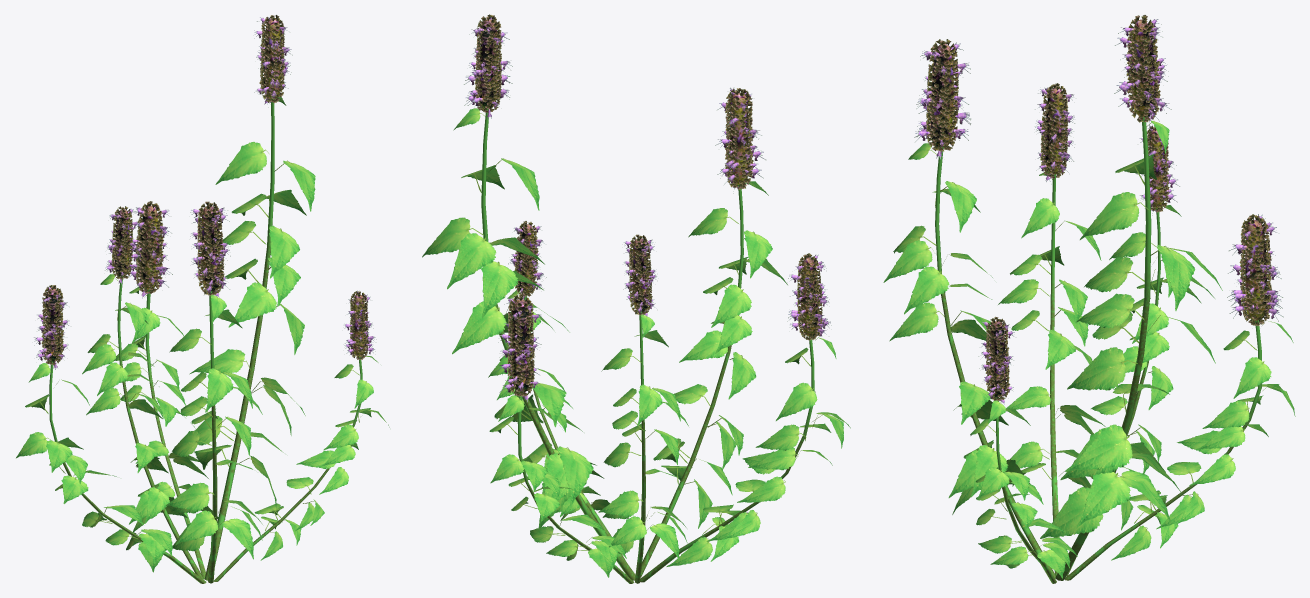
File: AniseHyssop.glb
3 views of the same model, side by side, from view 1: azimuth 30°, elevation 25°; view 2: azimuth 150°, elevation 25°; view 3: azimuth 270°, elevation 25° (orthographic). The views are drawn at different scales.
Parts seen in each view (by area): view 1: Anise Hyssop; view 2: Anise Hyssop; view 3: Anise Hyssop.
Boxes of the visible parts, box(x1,y1,x2,y2) form: Anise Hyssop: box(16, 15, 389, 583); Anise Hyssop: box(422, 14, 850, 583); Anise Hyssop: box(883, 15, 1295, 583).
Bounding box in the file's own units: 0.6486 × 0.9385 × 0.5671.
Materials: 1 (1 with a texture image).
